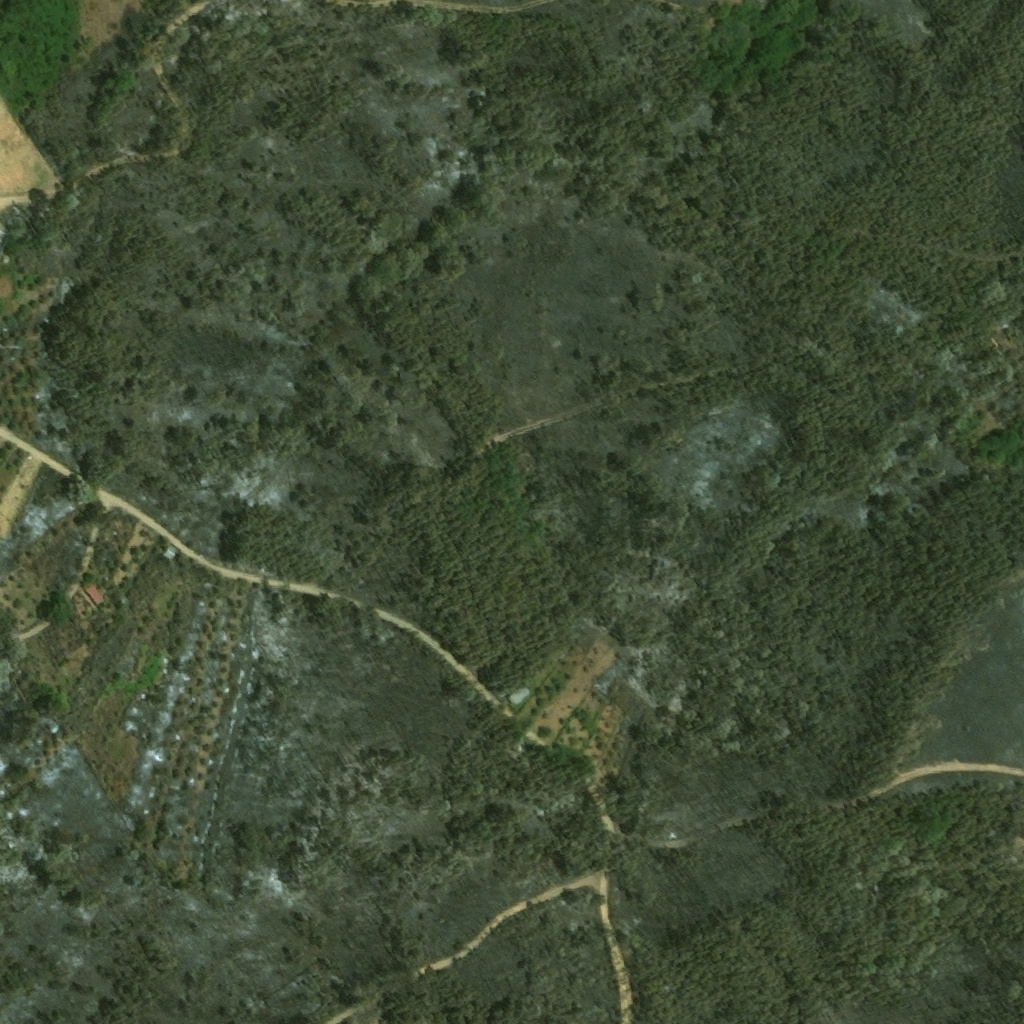0 no-damage: (85, 584, 106, 606)
3 destroyed: (35, 631, 61, 663), (506, 684, 530, 707), (163, 548, 176, 561)
